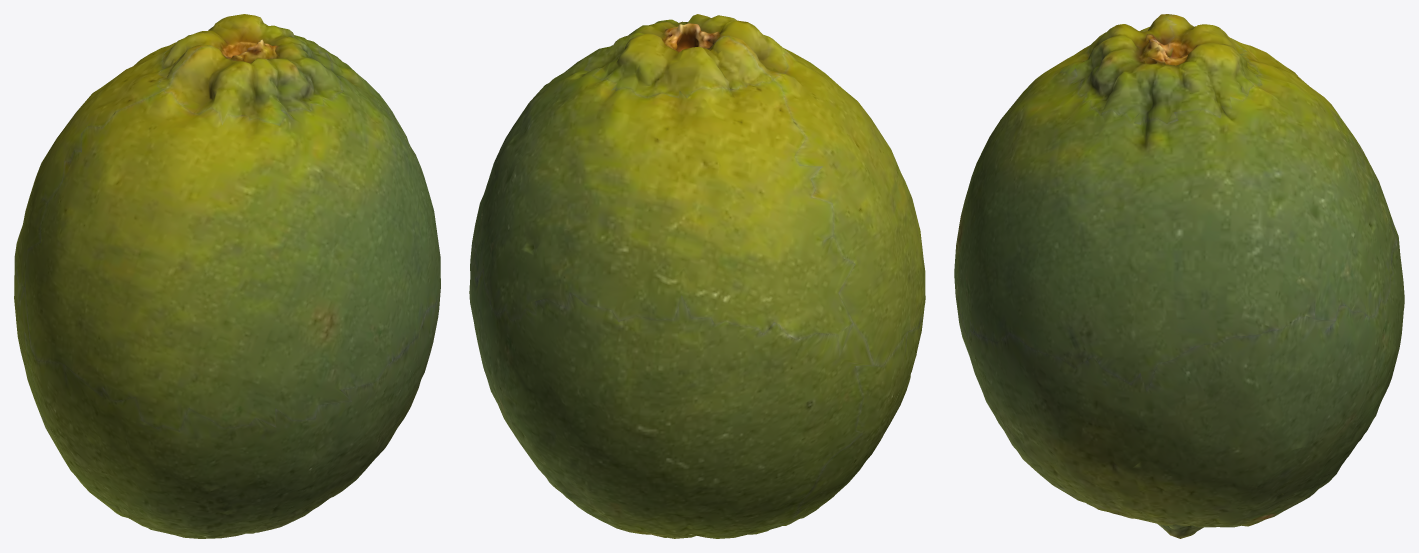
The model's file is lime.glb.
3 renders of one model, left to right at view 1: azimuth 30°, elevation 25°; view 2: azimuth 150°, elevation 25°; view 3: azimuth 270°, elevation 25°, orthographic.
Visible parts, largest first — view 1: food_lime_01; view 2: food_lime_01; view 3: food_lime_01.
Part boxes in pixels (x1,y1,x2,y2): food_lime_01: (14,14,440,538); food_lime_01: (469,14,925,538); food_lime_01: (954,14,1404,538).
Bounding box in the file's own units: 0.0601 × 0.0754 × 0.0613.
1 material, 1 textured.
